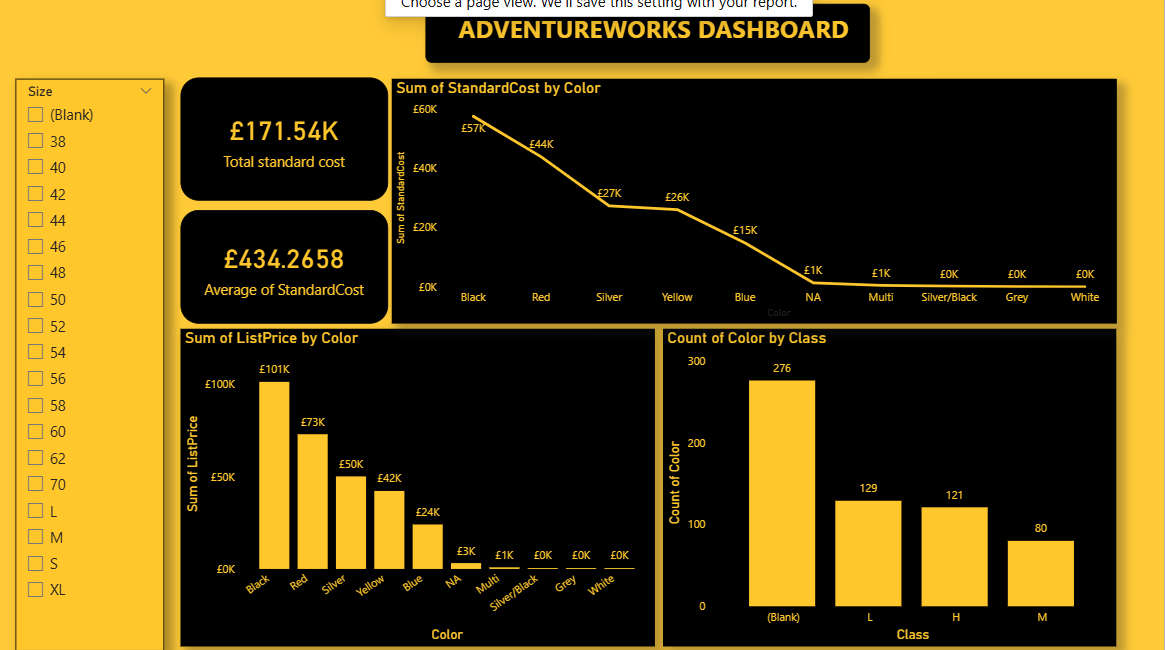

This screenshot's page, from the dashboard's own definition file:
{"tool":"powerbi","page":{"name":"Adventure Dashboard","canvas":[1280,720],"ordinal":0},"visuals":[{"type":"clusteredColumnChart","fields":{"Category":["DimProduct.Color"],"Y":["Sum(DimProduct.ListPrice)"]},"box":[200,365.8,521.1,348.7],"z":0},{"type":"columnChart","fields":{"Category":["DimProduct.Class"],"Y":["CountNonNull(DimProduct.Color)"]},"box":[730.3,365.8,497.4,348.7],"z":1000},{"type":"lineChart","fields":{"Category":["DimProduct.Color"],"Y":["Sum(DimProduct.StandardCost)"]},"box":[431.6,92.1,796.1,268.4],"z":2000},{"type":"card","fields":{"Values":["Avg(DimProduct.StandardCost)"]},"box":[200,235.5,227.6,125],"z":3000},{"type":"card","fields":{"Values":["DimProduct.Total standard cost"]},"box":[200,90.8,227.6,135.5],"z":4000},{"type":"textbox","box":[469.8,9.3,488.4,65.1],"z":5000},{"type":"slicer","fields":{"Values":["DimProduct.Size"]},"box":[19.7,92.1,163.2,627.6],"z":6000}]}

Visuals, with their boxes in screenshot pixels (x1, y1, x2, y2):
clusteredColumnChart - DimProduct.Color x Sum(DimProduct.ListPrice): 175:325:656:647
columnChart - DimProduct.Class x CountNonNull(DimProduct.Color): 664:325:1123:647
lineChart - DimProduct.Color x Sum(DimProduct.StandardCost): 389:73:1123:320
card - Avg(DimProduct.StandardCost): 175:205:385:320
card - DimProduct.Total standard cost: 175:72:385:196
textbox: 424:0:874:56
slicer - DimProduct.Size: 9:73:160:649
